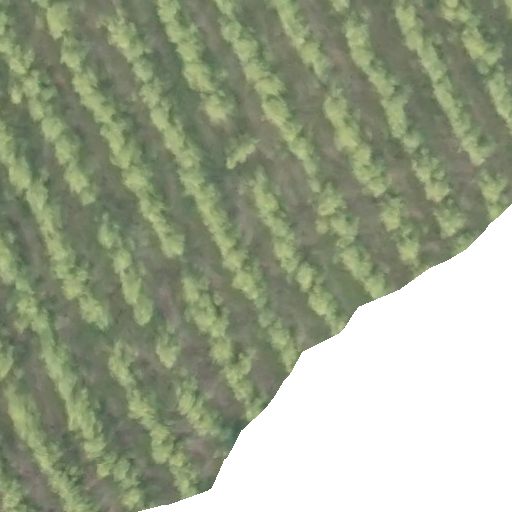eucalipto: (193, 86, 245, 130)
